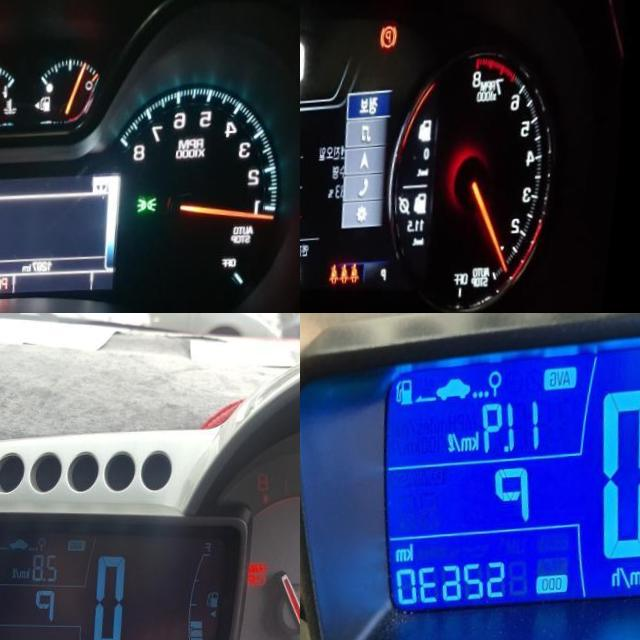SideLamp: (144, 194, 166, 211)
